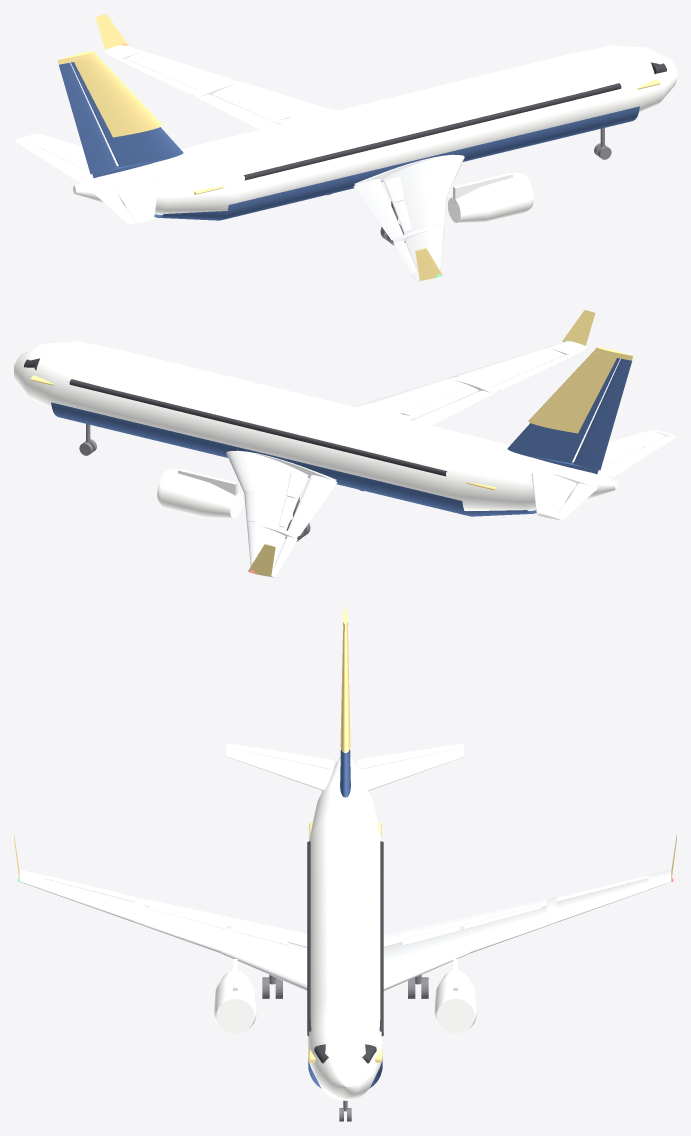
File: airliner.glb
3 views of the same model, one above another, from view 1: azimuth 30°, elevation 25°; view 2: azimuth 150°, elevation 25°; view 3: azimuth 270°, elevation 25° (orthographic). The views are drawn at different scales.
Visible parts, largest first — view 1: body, rudder, flapR, flapL, elevatorL, elevatorR, aileronL, gear, spoilerL1; view 2: body, rudder, flapL, flapR, elevatorR, elevatorL, aileronR, gear, spoilerR1; view 3: body, flapL, flapR, gear, elevatorL, elevatorR.
Boxes of the visible parts, x1,y1,x2,y2 form: body: (14, 14, 676, 281); rudder: (59, 62, 117, 174); flapR: (353, 179, 403, 239); flapL: (198, 94, 278, 129); elevatorL: (16, 140, 92, 181); elevatorR: (93, 187, 134, 222); aileronL: (119, 58, 197, 94); gear: (327, 128, 611, 245); spoilerL1: (216, 91, 289, 119); body: (14, 310, 676, 577); rudder: (573, 358, 631, 470); flapL: (287, 475, 337, 535); flapR: (412, 390, 492, 425); elevatorR: (598, 436, 674, 477); elevatorL: (556, 483, 597, 518); aileronR: (493, 354, 571, 390); gear: (79, 424, 363, 541); spoilerR1: (401, 387, 474, 415); body: (14, 606, 676, 1100); flapL: (383, 899, 546, 947); flapR: (144, 899, 307, 947); gear: (262, 975, 428, 1121); elevatorL: (360, 744, 460, 768); elevatorR: (230, 744, 330, 768).
Bounding box in the file's own units: 38.65 × 13.76 × 34.6.
